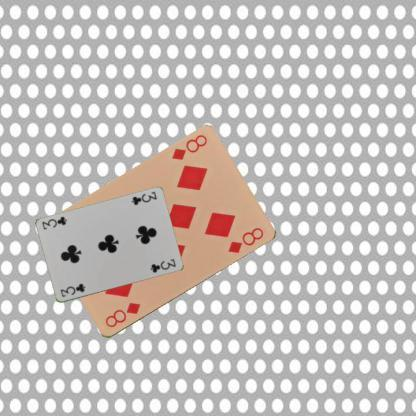3c: (129, 189, 158, 207), (58, 280, 86, 298)
8d: (168, 132, 210, 162), (102, 300, 142, 330)
